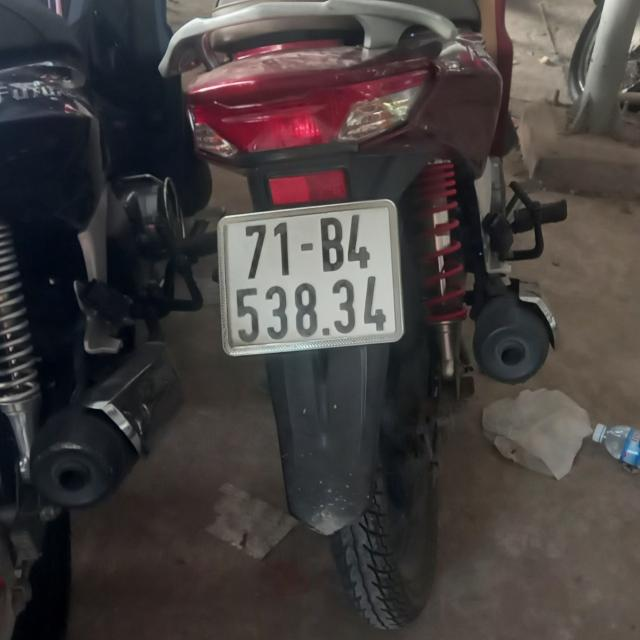1: (274, 222, 291, 276)
3: (265, 284, 289, 340), (332, 279, 354, 334)
4: (347, 215, 371, 269), (363, 276, 386, 332)
5: (236, 286, 258, 344)
7: (245, 225, 266, 278)
8: (293, 282, 318, 340)
B: (320, 217, 344, 272)
